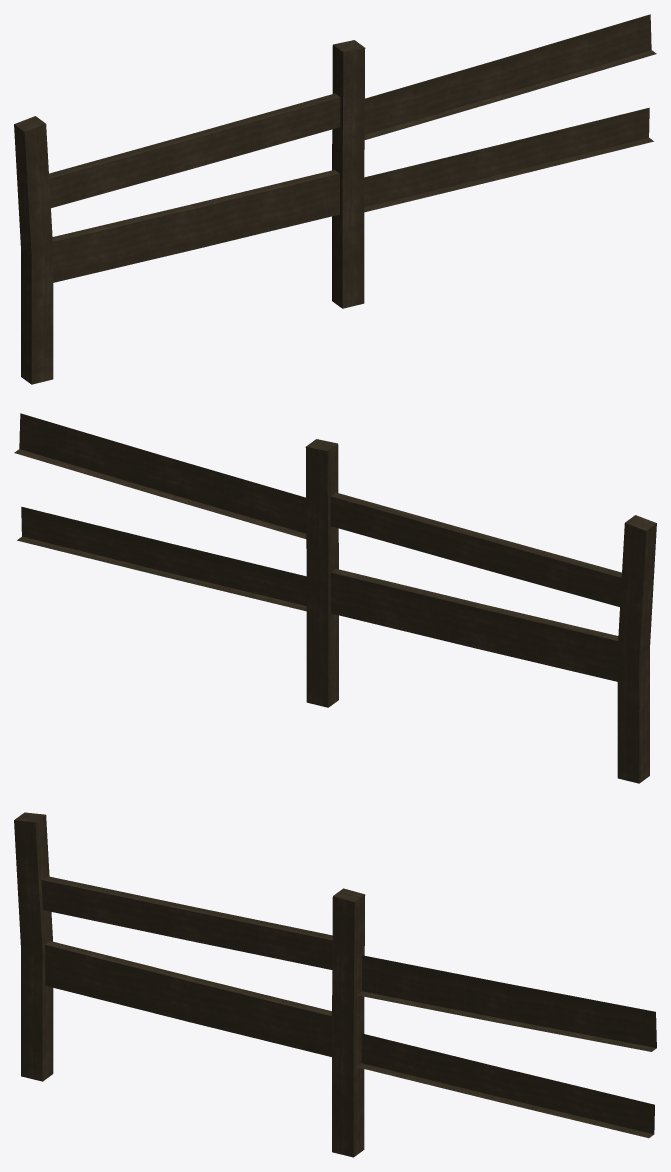
Rendered from fence01.glb.
3 renders of one model, top to bottom at view 1: azimuth 30°, elevation 25°; view 2: azimuth 150°, elevation 25°; view 3: azimuth 330°, elevation 25°, orthographic.
Parts seen in each view (by area): view 1: fence01; view 2: fence01; view 3: fence01.
Part boxes in pixels (bbox=[...]): fence01: bbox=[14, 14, 656, 384]; fence01: bbox=[14, 413, 656, 783]; fence01: bbox=[14, 812, 656, 1157].
Bounding box in the file's own units: 10.04 × 3.89 × 0.2911.
1 material, 1 textured.
